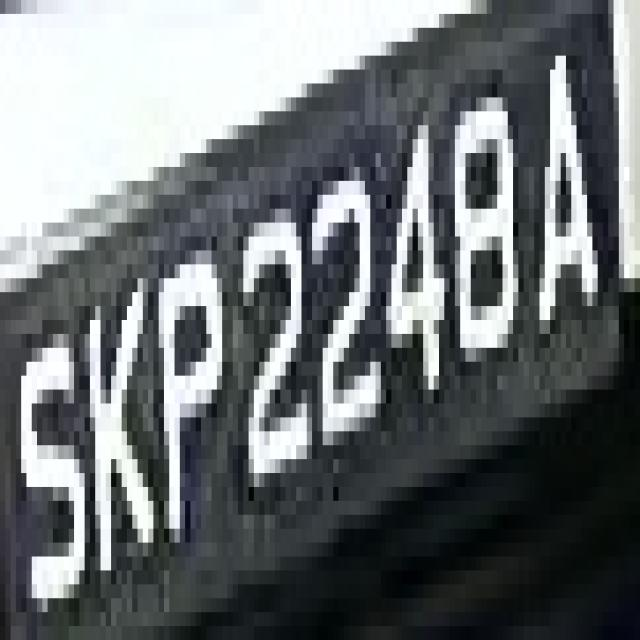2: (302, 139, 396, 487), (233, 208, 312, 528)
4: (376, 98, 466, 432)
8: (439, 42, 529, 390)
A: (529, 41, 603, 362)
K: (84, 236, 154, 584)
P: (154, 209, 228, 570)
S: (0, 6, 1, 15)
